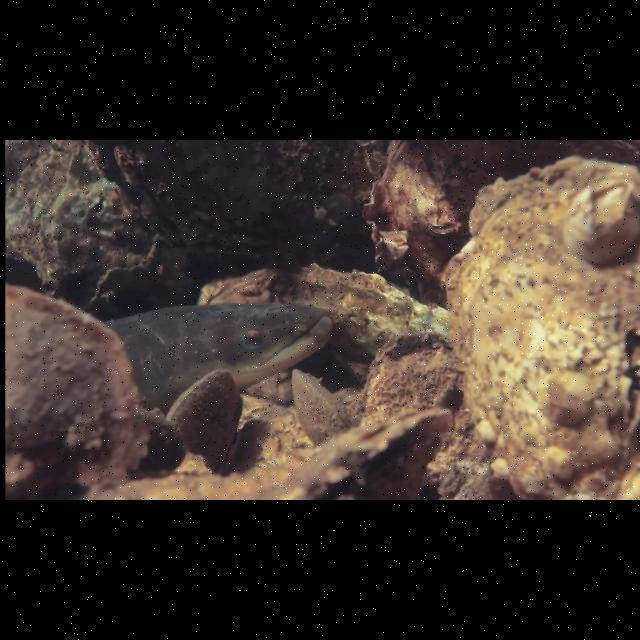Oyster-Closed: (440, 154, 640, 498), (5, 279, 165, 489), (220, 406, 465, 499), (348, 322, 464, 420), (163, 364, 239, 473), (290, 367, 362, 450)
